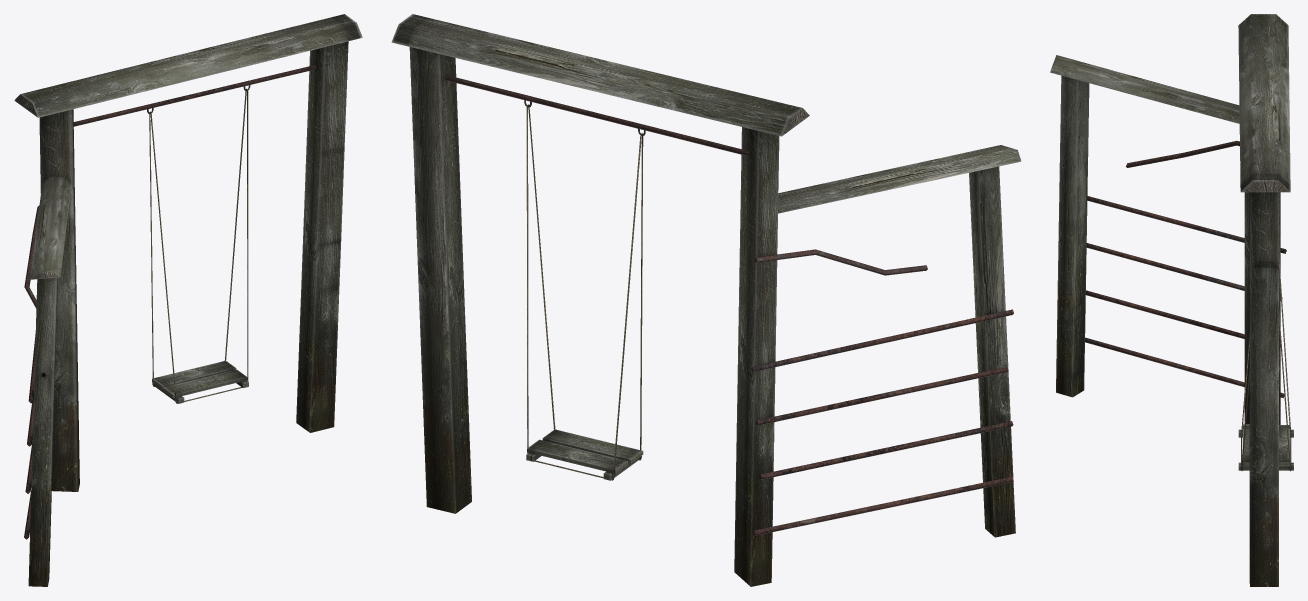
The model's file is Turnik.FBX.
3 views of the same model, side by side, from view 1: azimuth 30°, elevation 25°; view 2: azimuth 150°, elevation 25°; view 3: azimuth 270°, elevation 25° (orthographic). The views are drawn at different scales.
Parts seen in each view (by area): view 1: turnik_00; view 2: turnik_00; view 3: turnik_00.
Part boxes in pixels (box(x1,y1,x2,y2)): turnik_00: box(14, 14, 362, 586); turnik_00: box(391, 14, 1021, 586); turnik_00: box(1050, 14, 1293, 586).
Bounding box in the file's own units: 2.83 × 2.57 × 1.36.
